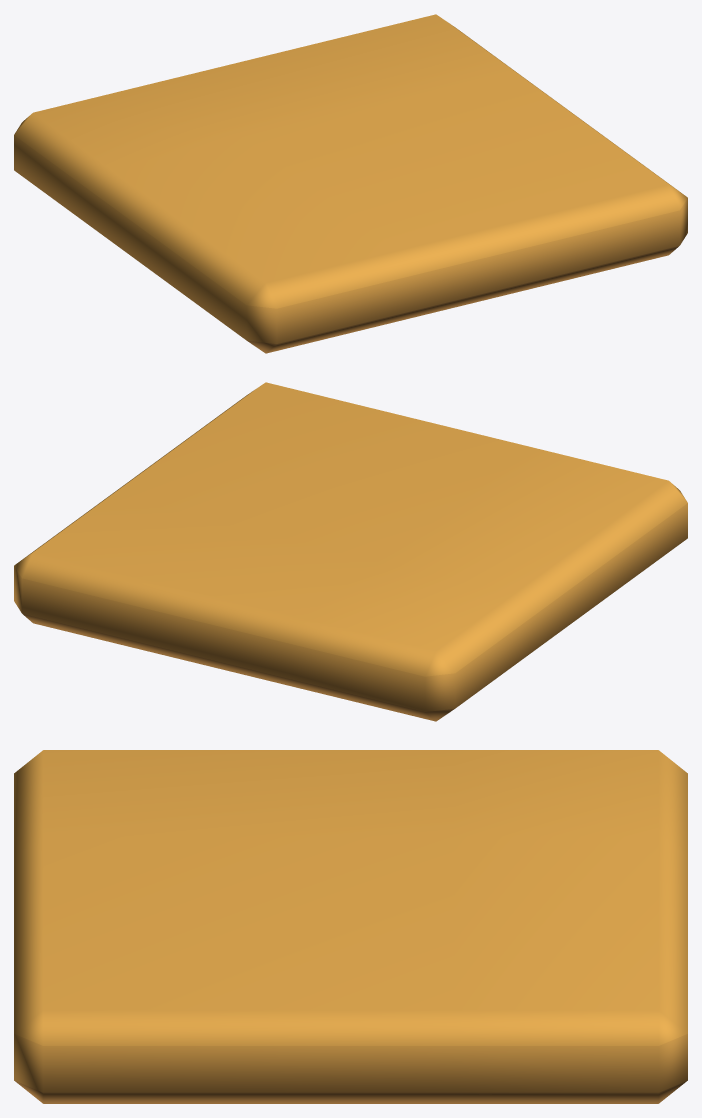
The model's file is rock_top_3x3.fbx.
3 views of the same model, one above another, from view 1: azimuth 30°, elevation 25°; view 2: azimuth 150°, elevation 25°; view 3: azimuth 270°, elevation 25° (orthographic). The views are drawn at different scales.
Parts seen in each view (by area): view 1: rock_top_3x3; view 2: rock_top_3x3; view 3: rock_top_3x3.
Part boxes in pixels (bbox=[...]): rock_top_3x3: bbox=[14, 14, 687, 353]; rock_top_3x3: bbox=[14, 382, 687, 721]; rock_top_3x3: bbox=[14, 750, 687, 1103].
Size of the model in its own units: 327 by 50 by 327.
1 material, 1 textured.
